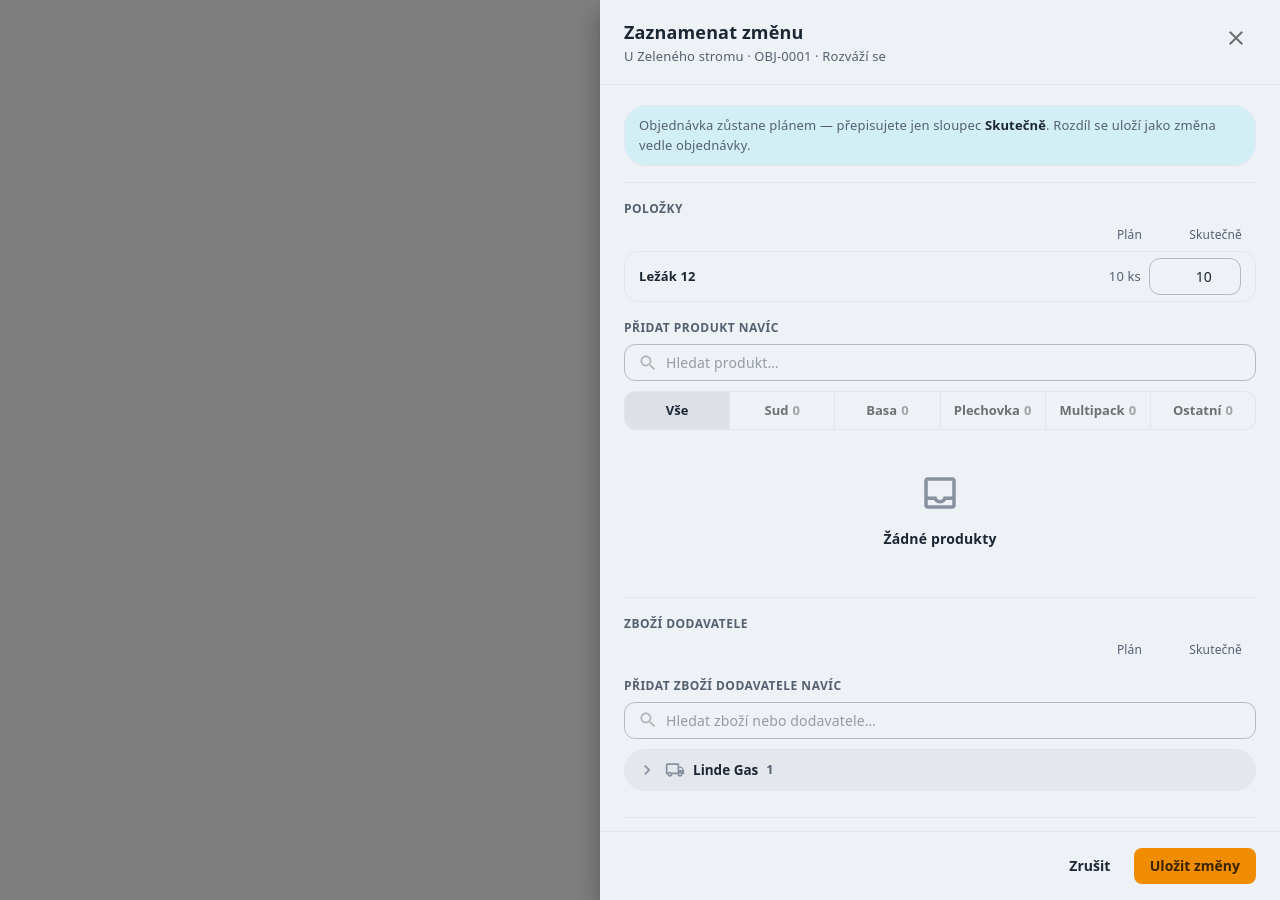
Test: LedgerEntryDrawer › colours over-delivery the other way
Replace the text in the number field named "Ležák 12 — Skutečně" with "12" at (1195, 277), box [1149,258,1241,295]
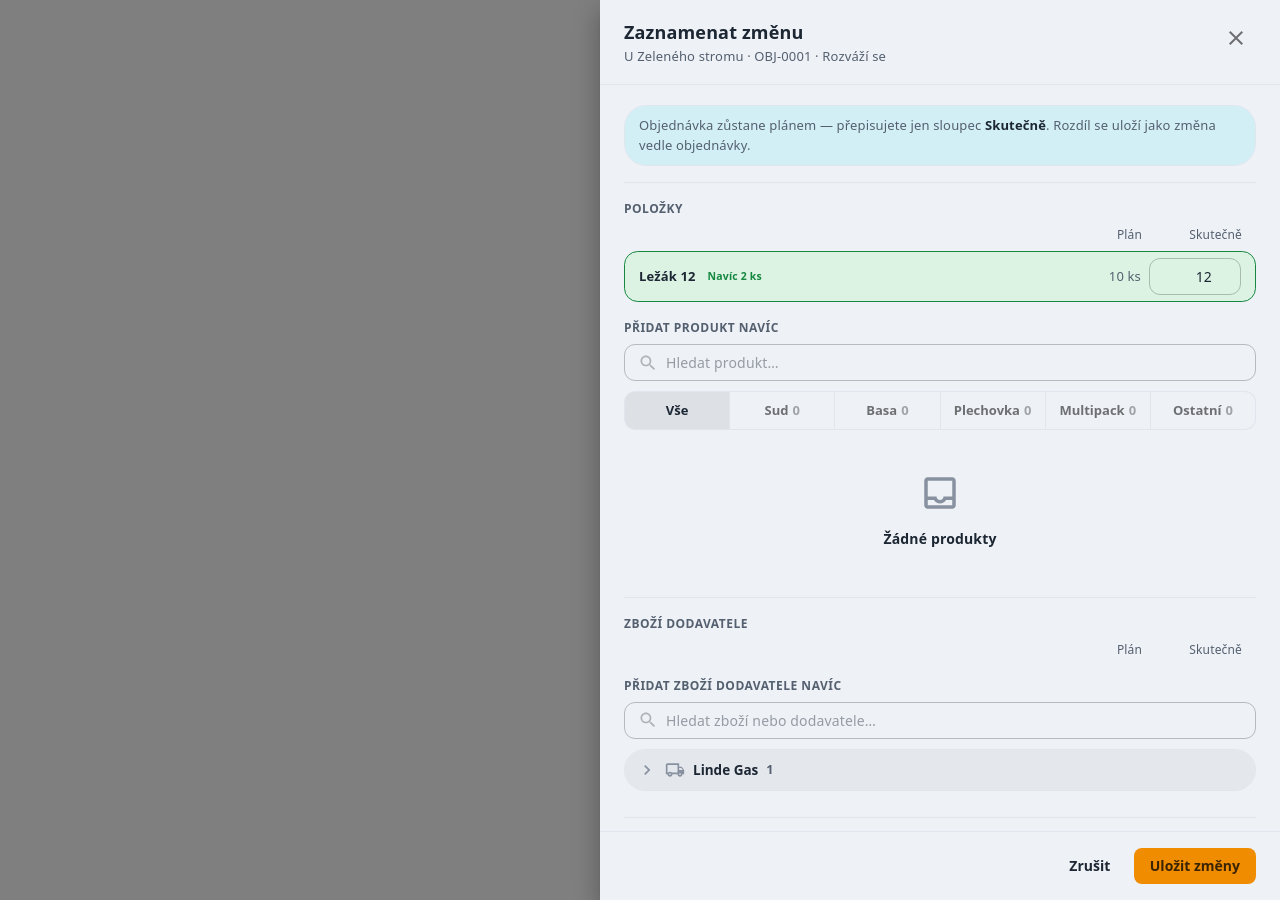
Expected: the text "Navíc 2 ks" is shown, [702,268,768,286]
